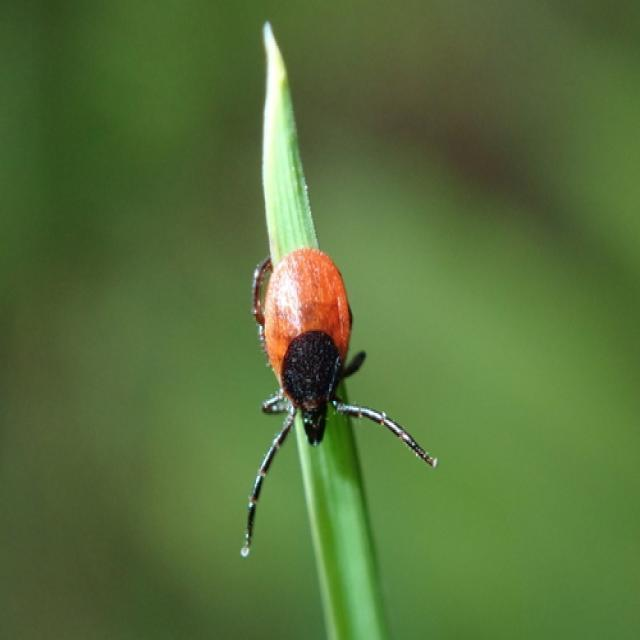Ixodes Ricinus-F: (241, 247, 438, 560)
